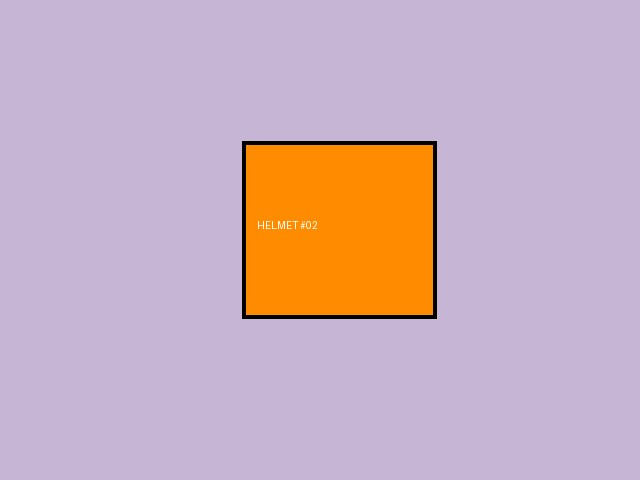helmet: (242, 141, 436, 318)
